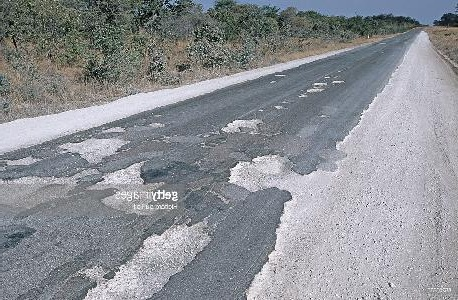pothole: (77, 218, 214, 300), (225, 148, 300, 191), (56, 133, 131, 162), (95, 155, 150, 184), (220, 116, 263, 136), (4, 153, 48, 166), (306, 85, 328, 95), (330, 78, 345, 84)
